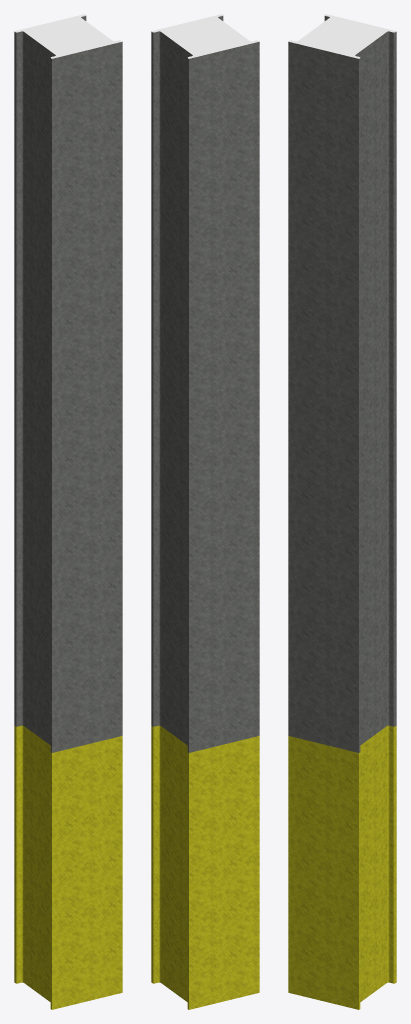
The picture shows the model from 3 angles, left to right: view 1: azimuth 30°, elevation 25°; view 2: azimuth 210°, elevation 25°; view 3: azimuth 330°, elevation 25°; orthographic projection.
Visible parts, largest first — view 1: SketchUp (×3); view 2: SketchUp (×3); view 3: SketchUp (×3).
Boxes of the visible parts, x1=… form: SketchUp (×3): x1=14, y1=14, x2=122, y2=1009; SketchUp (×3): x1=151, y1=14, x2=259, y2=1009; SketchUp (×3): x1=288, y1=14, x2=396, y2=1009.
Size of the model in its own units: 13 by 12 by 167.
Materials: 3 (2 with a texture image).
